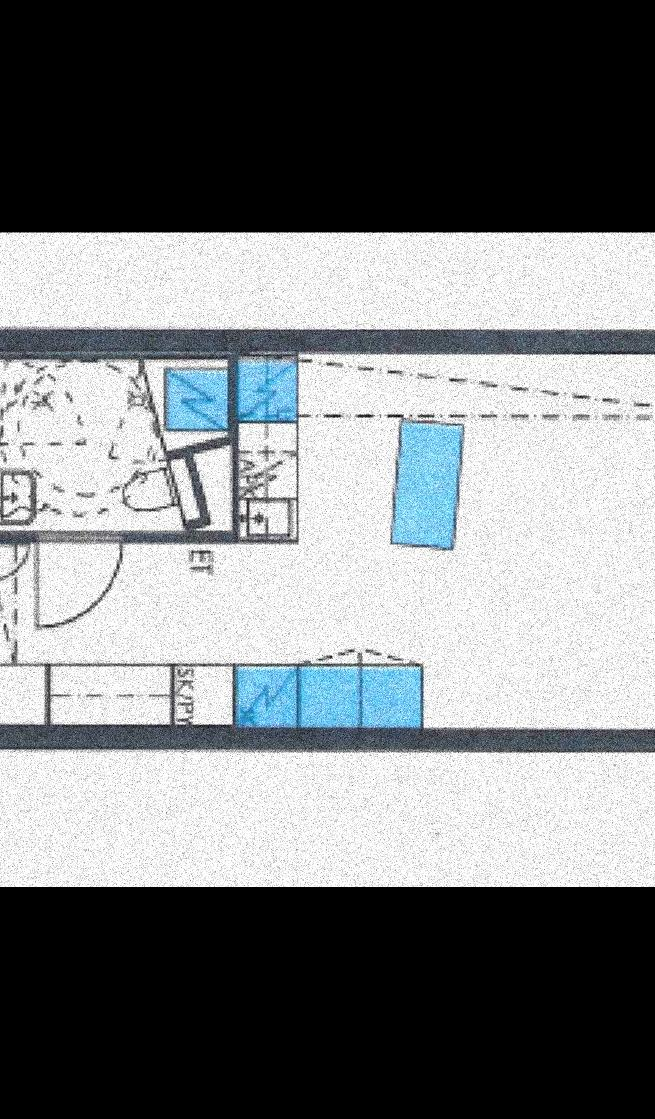door: (27, 524, 121, 646)
zone: (0, 361, 655, 732), (0, 356, 235, 525)
